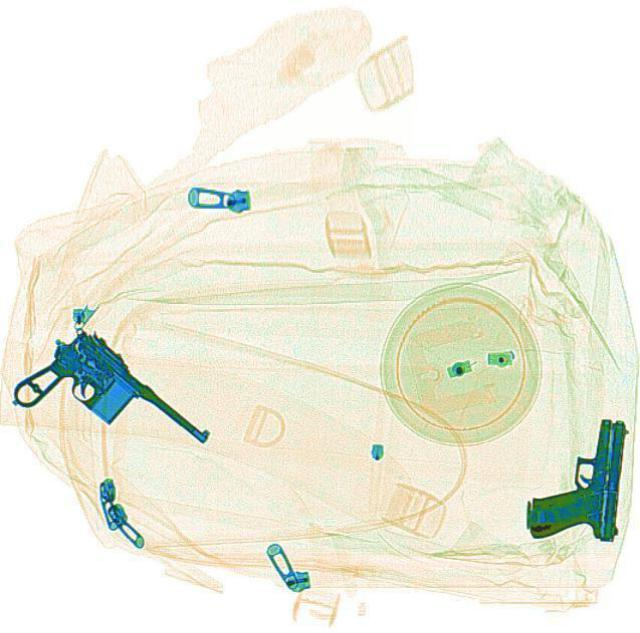Gun: (0, 317, 212, 506), (522, 412, 626, 545)
